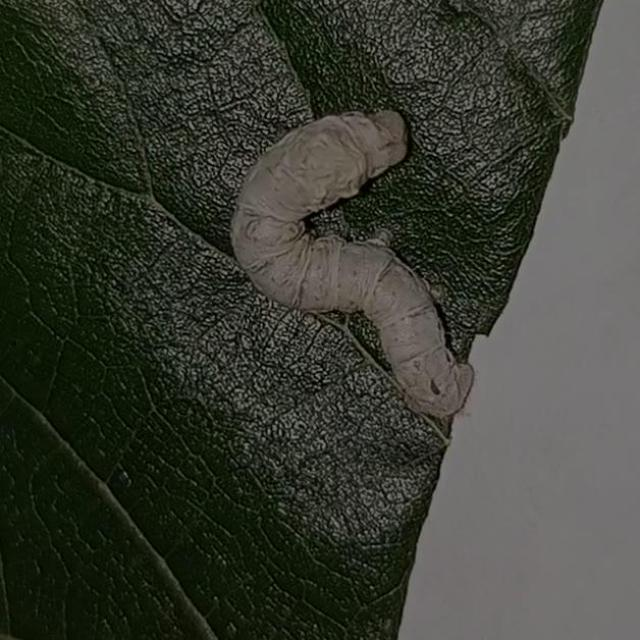Healthy: (222, 100, 484, 422)
